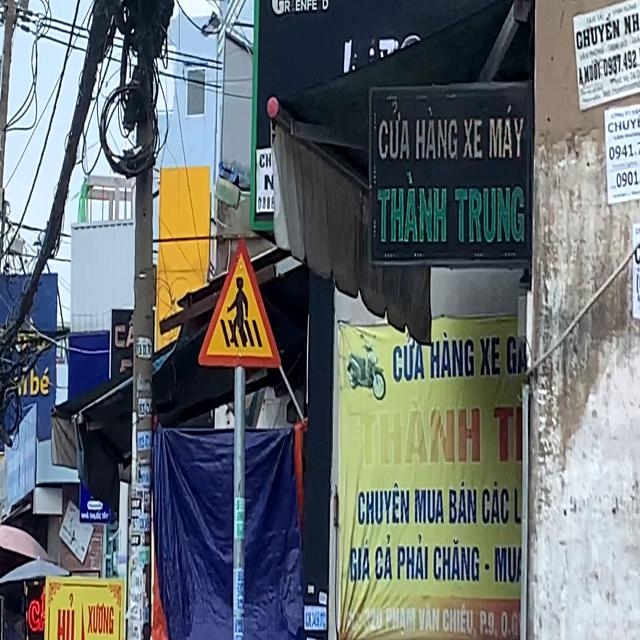W.224: (198, 236, 282, 368)
